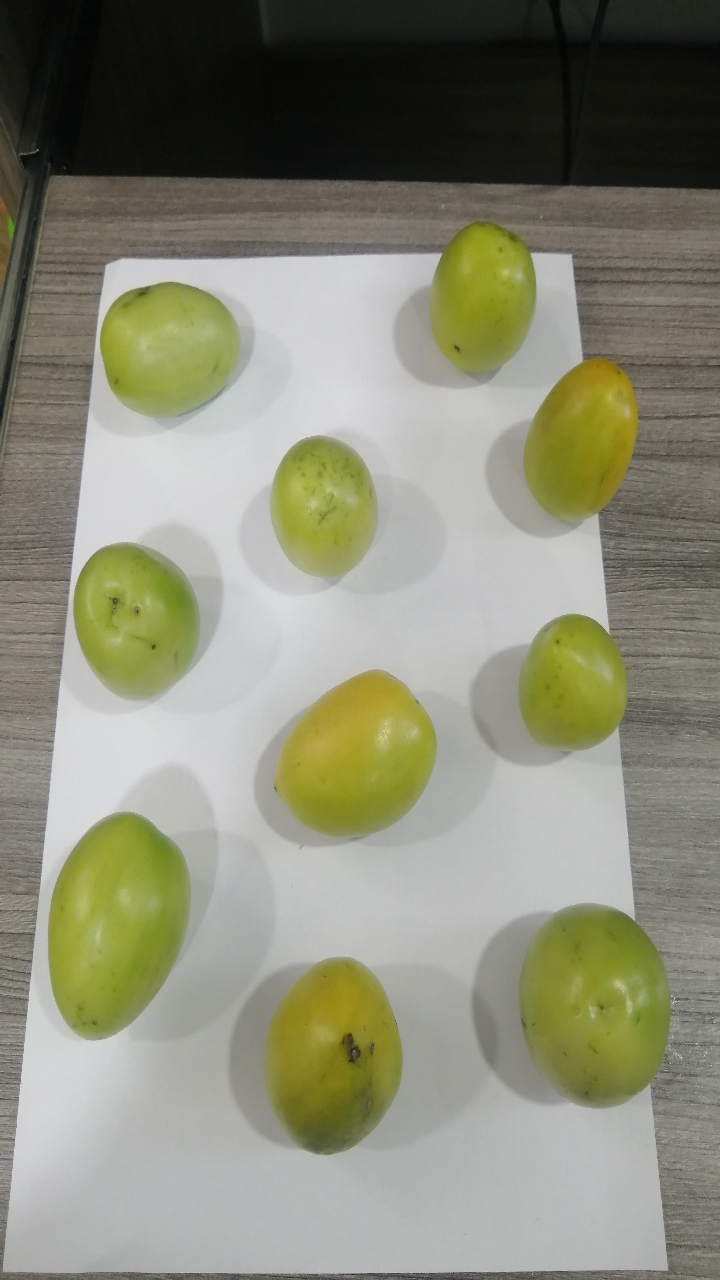tomateVerde: (501, 885, 692, 1128), (246, 651, 449, 860), (26, 803, 194, 1051), (248, 942, 415, 1172), (44, 532, 238, 712), (74, 254, 251, 432), (255, 426, 411, 600), (503, 345, 637, 545), (408, 215, 555, 389), (514, 602, 654, 774)
